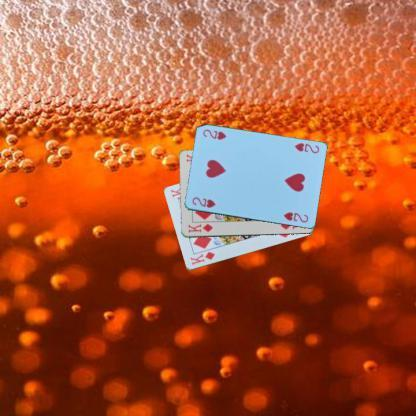2h: (292, 140, 321, 155), (190, 194, 216, 210)
Kd: (188, 248, 216, 266), (185, 222, 214, 233)
